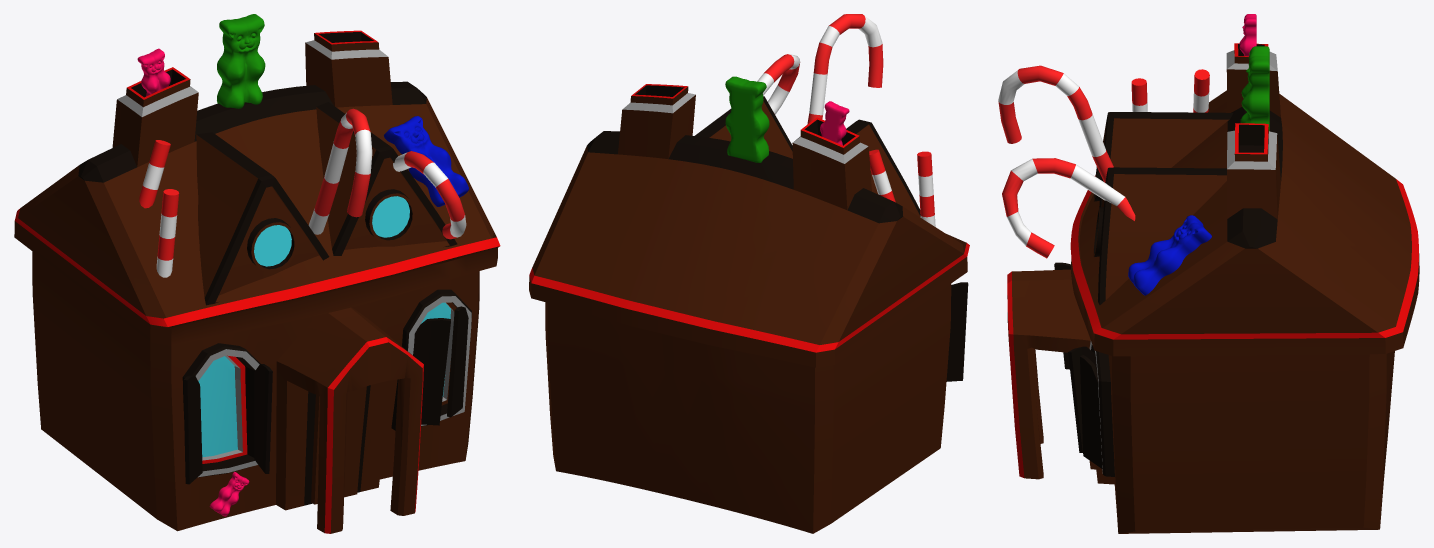
File: ginger bread house 2.FBX
3 views of the same model, side by side, from view 1: azimuth 30°, elevation 25°; view 2: azimuth 150°, elevation 25°; view 3: azimuth 270°, elevation 25° (orthographic). The views are drawn at different scales.
Parts seen in each view (by area): view 1: Box014, Box013, Box029, Gummy Bear003, Candy Cane007, Box010, Gummy Bear004, Candy Cane008, Box012, Box008, Box011, Candy Cane006 (+3 smaller); view 2: Box014, Gummy Bear003, Candy Cane007, Box013, Box012, Box029, Candy Cane008, Candy Cane006, Gummy Bear009, Candy Cane009; view 3: Box014, Box029, Box013, Candy Cane007, Candy Cane008, Gummy Bear004, Gummy Bear003, Box011, Box010, Candy Cane009, Gummy Bear009, Candy Cane006.
Part boxes in pixels (left/top/right/bottom): Box014: left=14, top=30, right=500, bottom=533; Box013: left=196, top=132, right=329, bottom=305; Box029: left=316, top=102, right=457, bottom=255; Gummy Bear003: left=217, top=14, right=265, bottom=108; Candy Cane007: left=308, top=108, right=372, bottom=234; Box010: left=413, top=318, right=450, bottom=425; Gummy Bear004: left=384, top=116, right=468, bottom=206; Candy Cane008: left=393, top=151, right=466, bottom=239; Box012: left=183, top=375, right=202, bottom=484; Box008: left=254, top=364, right=272, bottom=473; Box011: left=447, top=306, right=468, bottom=417; Candy Cane006: left=156, top=189, right=179, bottom=277; Box014: left=529, top=84, right=969, bottom=533; Gummy Bear003: left=725, top=76, right=769, bottom=162; Candy Cane007: left=807, top=14, right=883, bottom=124; Box013: left=846, top=119, right=920, bottom=217; Box012: left=946, top=282, right=968, bottom=381; Box029: left=695, top=96, right=792, bottom=158; Candy Cane008: left=757, top=54, right=800, bottom=114; Candy Cane006: left=917, top=151, right=935, bottom=226; Gummy Bear009: left=820, top=101, right=849, bottom=145; Candy Cane009: left=869, top=149, right=895, bottom=202; Box014: left=1007, top=43, right=1419, bottom=533; Box029: left=1093, top=167, right=1226, bottom=305; Box013: left=1093, top=112, right=1233, bottom=207; Candy Cane007: left=998, top=65, right=1113, bottom=182; Candy Cane008: left=1002, top=158, right=1135, bottom=258; Gummy Bear004: left=1128, top=215, right=1211, bottom=295; Gummy Bear003: left=1240, top=46, right=1269, bottom=131; Box011: left=1080, top=355, right=1102, bottom=468; Box010: left=1068, top=346, right=1096, bottom=452; Candy Cane009: left=1193, top=69, right=1209, bottom=112; Gummy Bear009: left=1239, top=14, right=1256, bottom=56; Candy Cane006: left=1131, top=78, right=1147, bottom=111.
Size of the model in its own units: 143 by 167 by 155.
